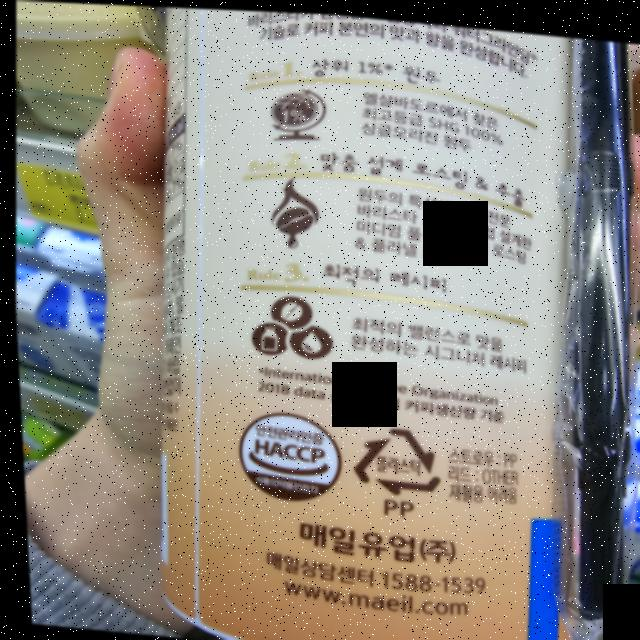Plastic: (341, 418, 440, 497)
